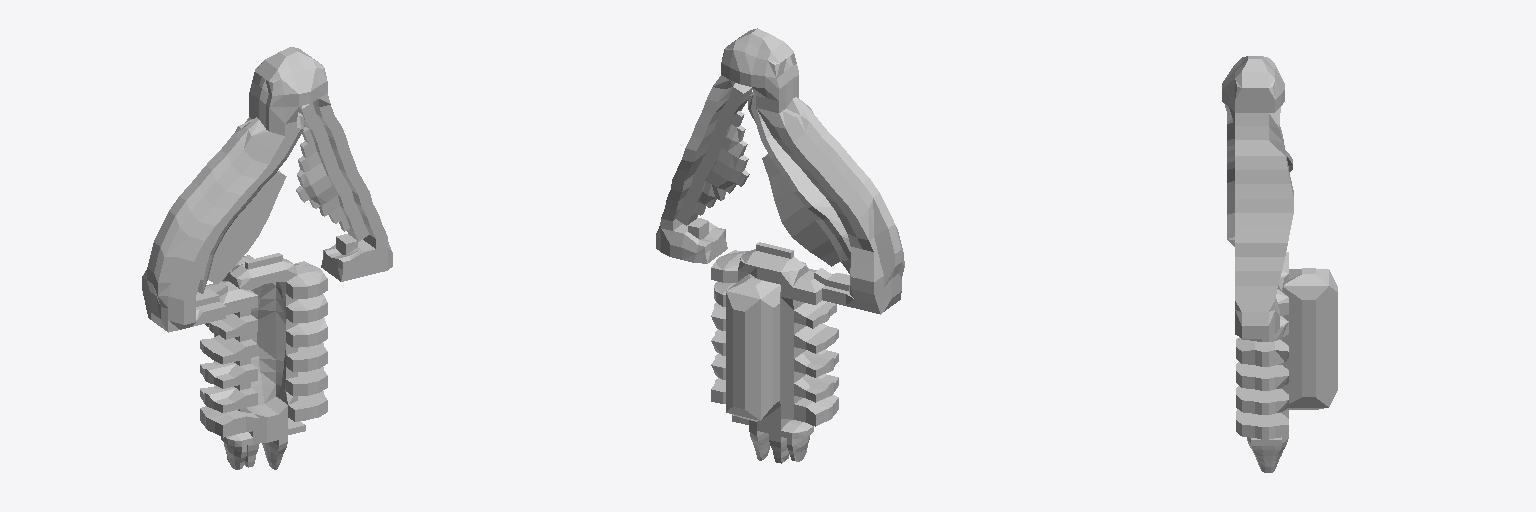
The model's file is drfrank-shit.obj.
The picture shows the model from 3 angles: view 1: azimuth 30°, elevation 25°; view 2: azimuth 150°, elevation 25°; view 3: azimuth 270°, elevation 25°; orthographic projection.
Visible parts, largest first — view 1: Cube.018; view 2: Cube.018; view 3: Cube.018.
Boxes of the visible parts, x1,y1,x2,y2 form: Cube.018: [142, 47, 392, 469]; Cube.018: [656, 28, 904, 463]; Cube.018: [1222, 56, 1337, 472].
Bounding box in the file's own units: 40.68 × 68.99 × 17.28.